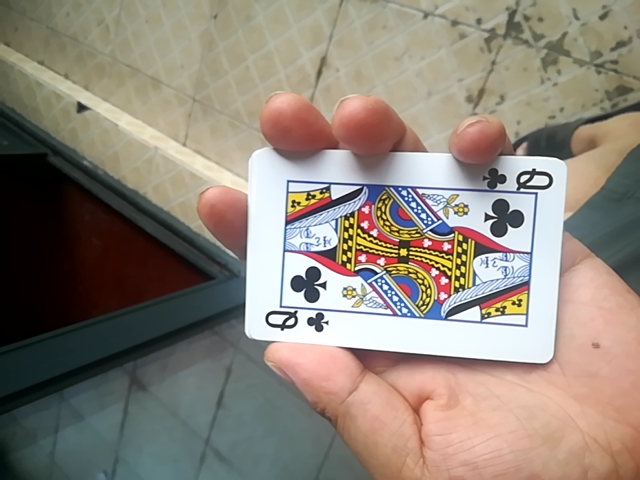mh q: (243, 141, 573, 360)
